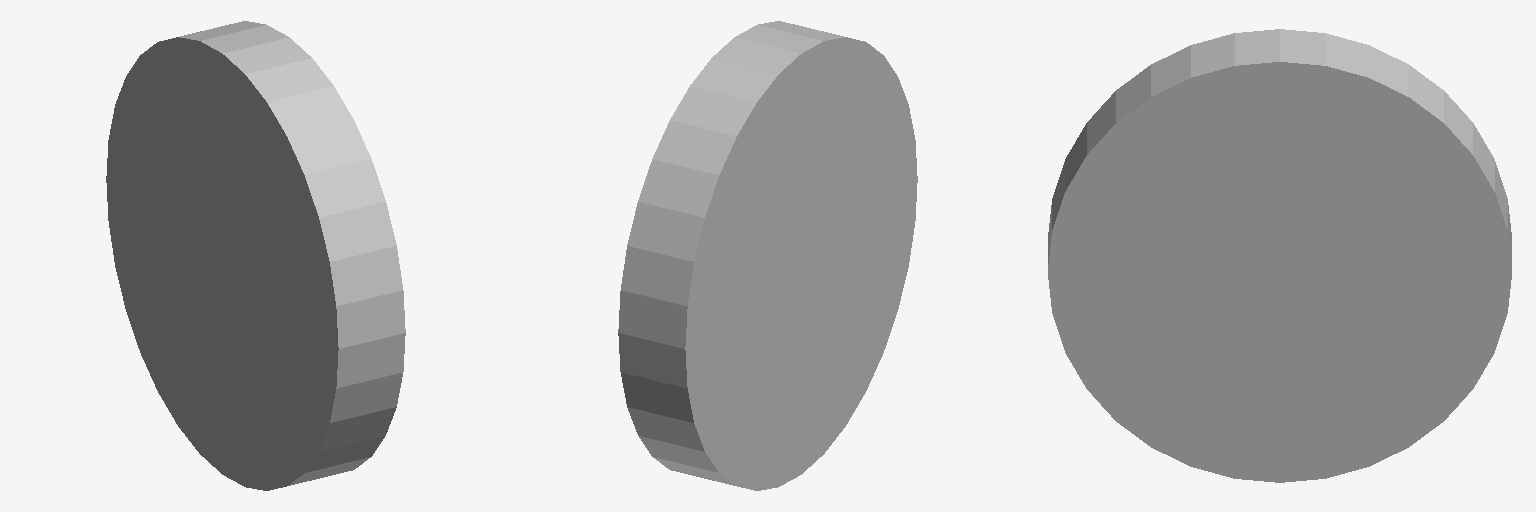
File: coin.obj
3 renders of one model, left to right at view 1: azimuth 30°, elevation 25°; view 2: azimuth 150°, elevation 25°; view 3: azimuth 270°, elevation 25°, orthographic.
Parts seen in each view (by area): view 1: Circle; view 2: Circle; view 3: Circle.
Part boxes in pixels (x1,y1,x2,y2): Circle: (106, 21, 405, 490); Circle: (618, 21, 917, 490); Circle: (1048, 29, 1511, 482).
Size of the model in its own units: 2 by 12 by 12.